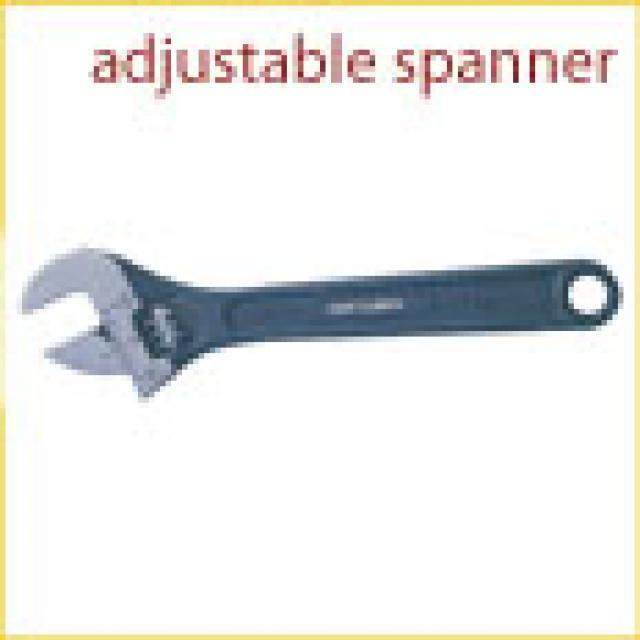wrench: (13, 232, 626, 404)
